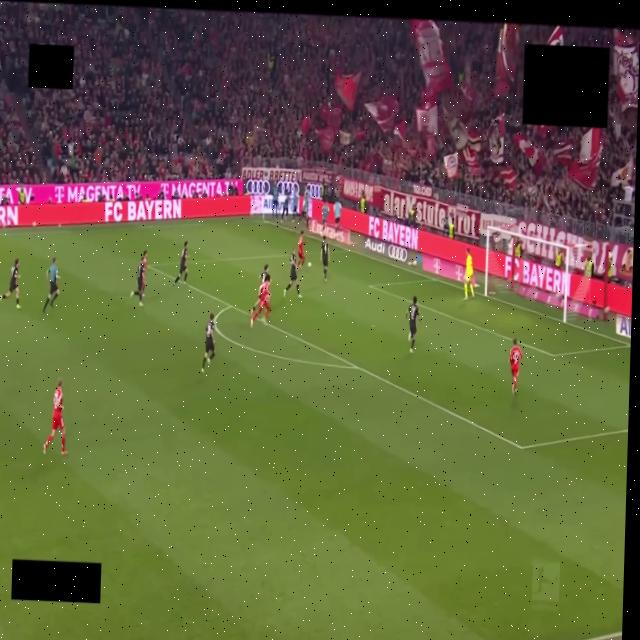ball: (308, 262, 311, 268)
player: (43, 379, 67, 454), (251, 276, 271, 327), (0, 258, 20, 309), (406, 296, 421, 354), (252, 264, 269, 314), (201, 313, 215, 373), (284, 249, 301, 298), (130, 256, 145, 306), (509, 339, 522, 394), (174, 242, 188, 286), (464, 248, 474, 300), (321, 235, 329, 282), (297, 231, 305, 269), (141, 250, 147, 291)
referee: (43, 258, 59, 312)
